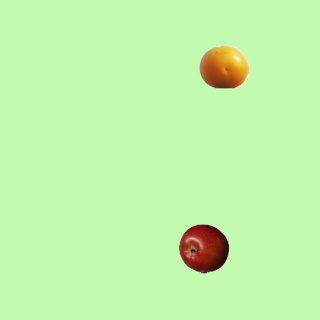Apple Braeburn: (178, 223, 228, 273)
Cherry Wax Yellow: (198, 41, 248, 91)
